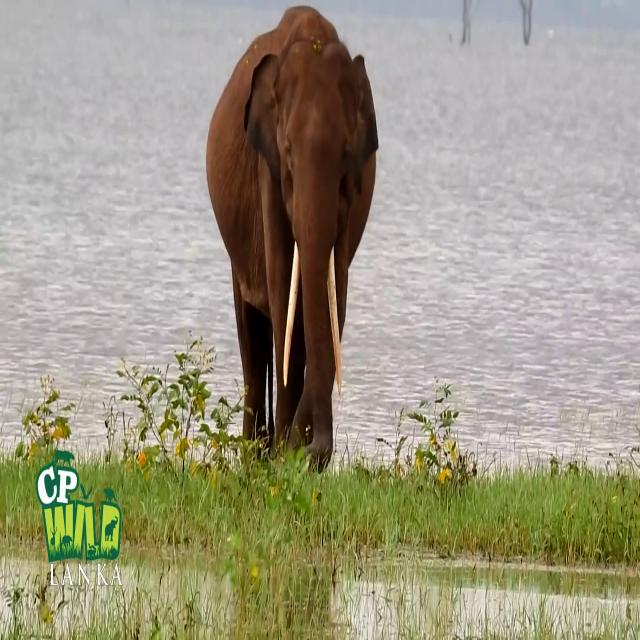Elephant: (205, 4, 379, 473)
